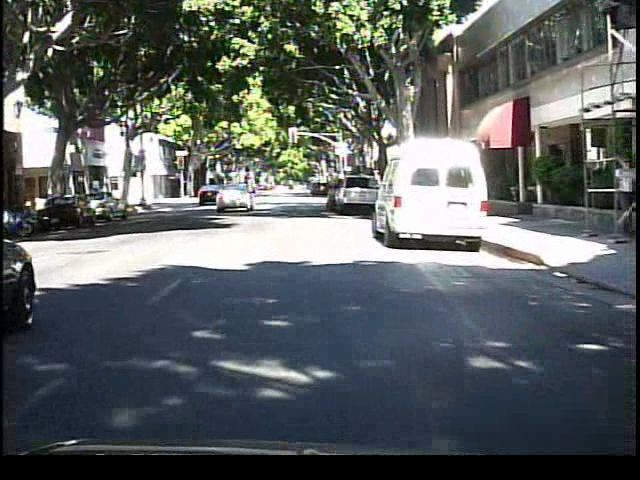person: (605, 152, 633, 242), (236, 175, 260, 209)
